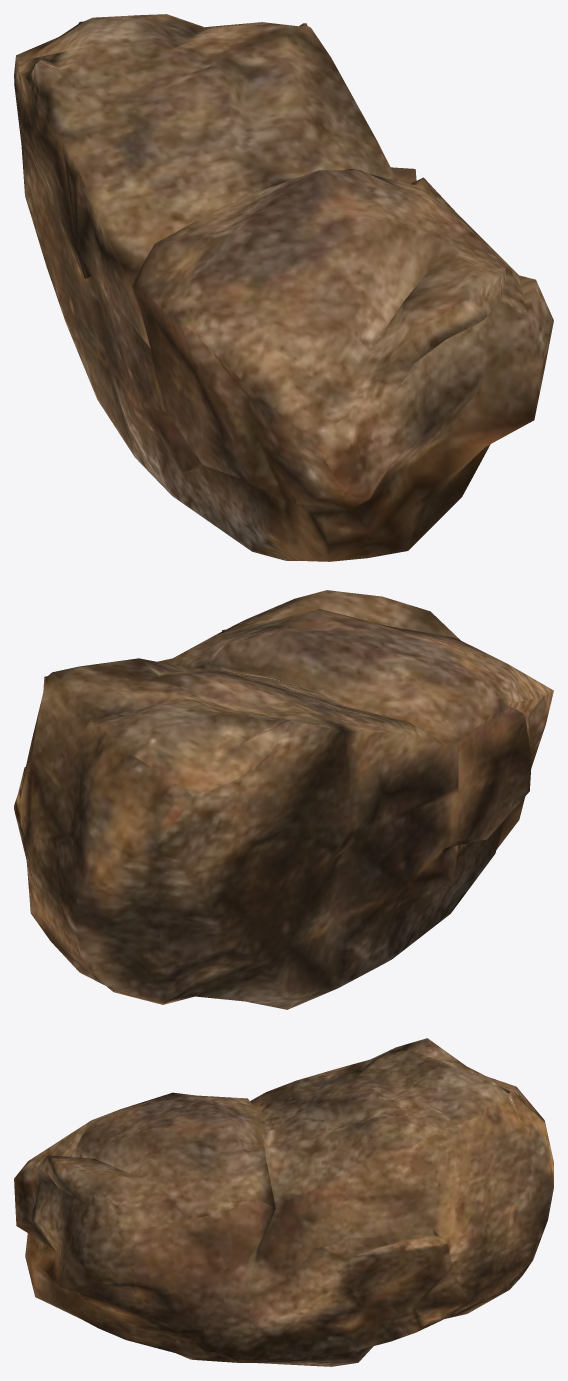
File: rock.glb
3 views of the same model, one above another, from view 1: azimuth 30°, elevation 25°; view 2: azimuth 150°, elevation 25°; view 3: azimuth 270°, elevation 25° (orthographic). The views are drawn at different scales.
Parts seen in each view (by area): view 1: namaqualand_boulder_06; view 2: namaqualand_boulder_06; view 3: namaqualand_boulder_06.
Boxes of the visible parts, x1,y1,x2,y2 form: namaqualand_boulder_06: (14,14,553,561); namaqualand_boulder_06: (14,590,553,1009); namaqualand_boulder_06: (14,1038,553,1366).
Size of the model in its own units: 0.67 by 0.639 by 1.21.
Materials: 1 (1 with a texture image).
